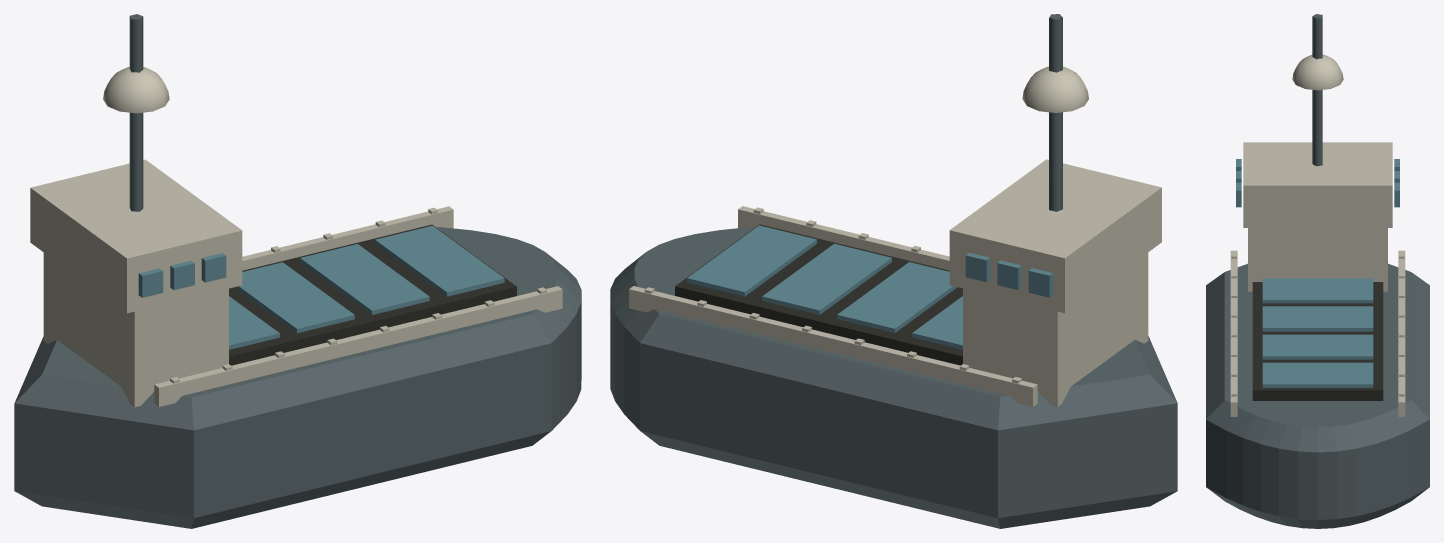
The model's file is custom-vehicle-otonom.glb.
The picture shows the model from 3 angles, left to right: view 1: azimuth 30°, elevation 25°; view 2: azimuth 150°, elevation 25°; view 3: azimuth 270°, elevation 25°; orthographic projection. The views are drawn at different scales.
Parts seen in each view (by area): view 1: custom-vehicle-otonom; view 2: custom-vehicle-otonom; view 3: custom-vehicle-otonom.
Part boxes in pixels (left/top/right/bottom): custom-vehicle-otonom: left=14, top=14, right=581, bottom=528; custom-vehicle-otonom: left=610, top=14, right=1177, bottom=528; custom-vehicle-otonom: left=1206, top=14, right=1429, bottom=528.
Size of the model in its own units: 1 by 0.8074 by 0.4559.
